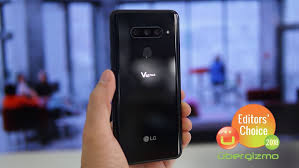lg: (107, 5, 183, 165)
